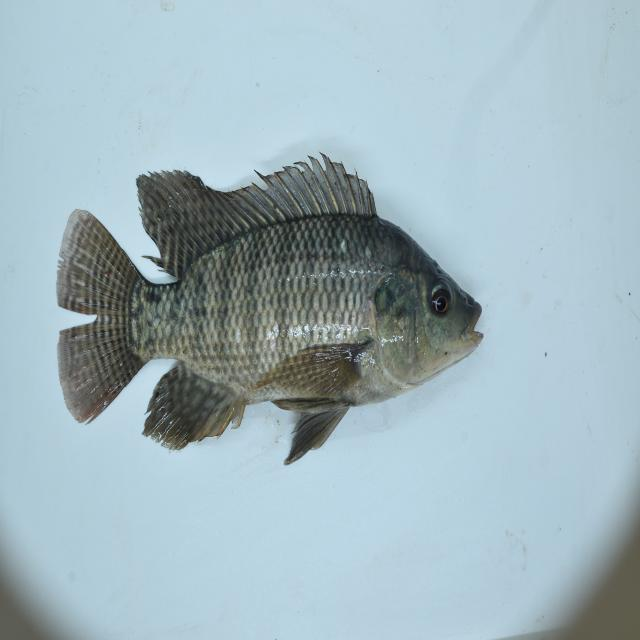Healthy Fish: (49, 152, 483, 467)
